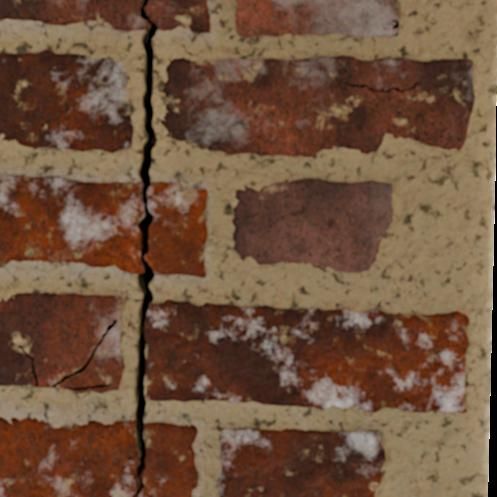brick: (145, 300, 468, 412), (162, 56, 474, 156), (233, 179, 391, 271), (0, 50, 132, 151), (0, 293, 123, 392), (218, 429, 384, 496), (236, 0, 398, 36)
broken_brick: (0, 175, 142, 274), (0, 416, 137, 496), (146, 181, 208, 277), (0, 0, 147, 31), (144, 422, 198, 496), (146, 0, 210, 33)
crack: (131, 0, 159, 496), (484, 0, 496, 496), (50, 318, 117, 387), (18, 344, 38, 387), (65, 383, 112, 390), (390, 19, 399, 36)
